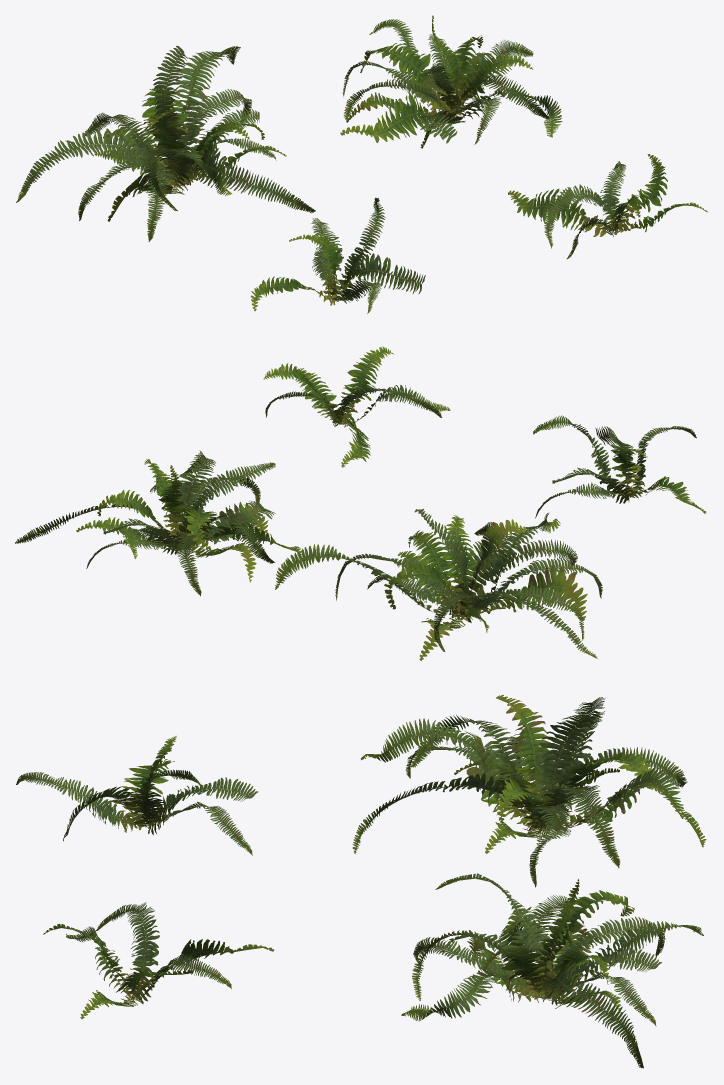
Rendered from fern_02.glb.
The picture shows the model from 3 angles, top to bottom: view 1: azimuth 30°, elevation 25°; view 2: azimuth 150°, elevation 25°; view 3: azimuth 270°, elevation 25°; orthographic projection. The views are drawn at different scales.
Visible parts, largest first — view 1: fern_02_b, fern_02_c, fern_02_a, fern_02_d; view 2: fern_02_b, fern_02_c, fern_02_d, fern_02_a; view 3: fern_02_b, fern_02_c, fern_02_a, fern_02_d.
Part boxes in pixels (box(x1,y1,x2,y2)): fern_02_b: box(16, 45, 315, 241); fern_02_c: box(340, 15, 562, 148); fern_02_a: box(250, 197, 425, 313); fern_02_d: box(508, 154, 707, 259); fern_02_b: box(275, 508, 602, 660); fern_02_c: box(15, 450, 301, 596); fern_02_d: box(263, 346, 450, 467); fern_02_a: box(533, 415, 706, 518); fern_02_b: box(352, 695, 706, 887); fern_02_c: box(401, 873, 703, 1068); fern_02_a: box(16, 736, 258, 855); fern_02_d: box(43, 902, 274, 1019).
Bounding box in the file's own units: 1.97 × 0.4277 × 1.72.
1 material, 1 textured.
